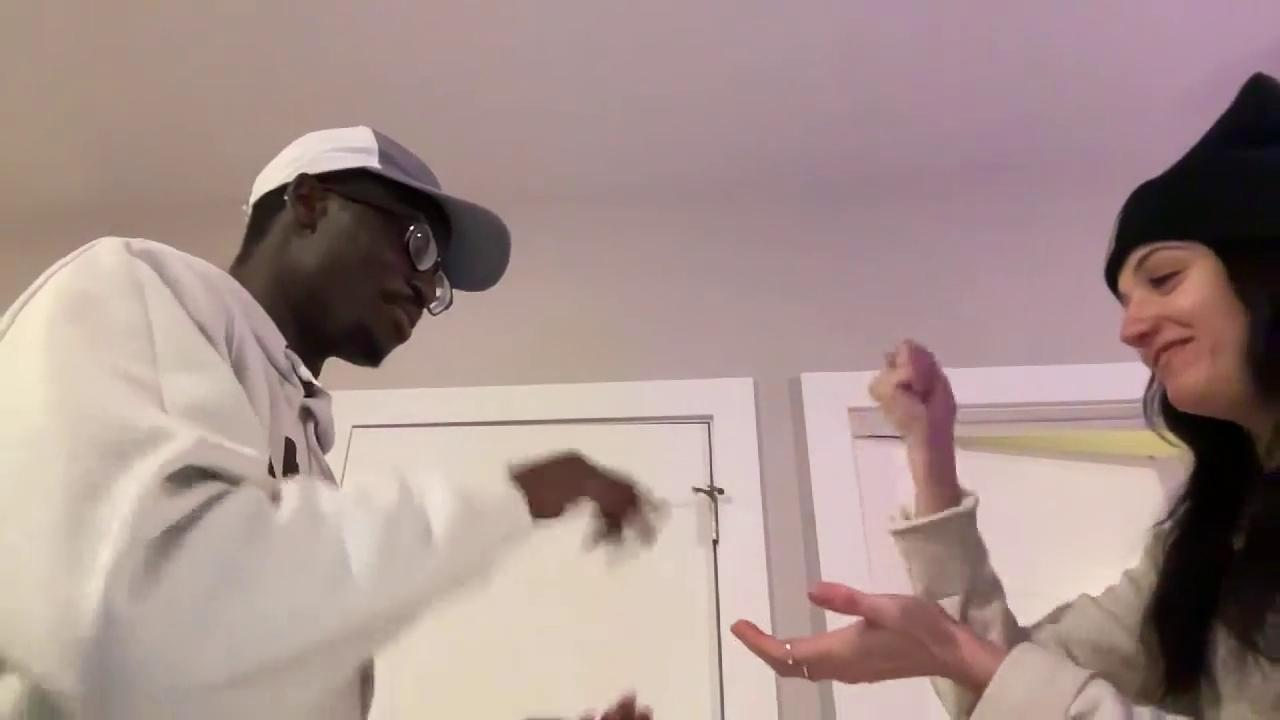Paper: (510, 447, 670, 562)
Rock: (865, 343, 959, 454)
